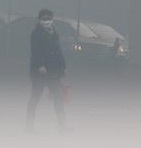person: (13, 8, 78, 137)
